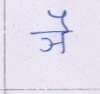ai_matra: (49, 9, 72, 30)
